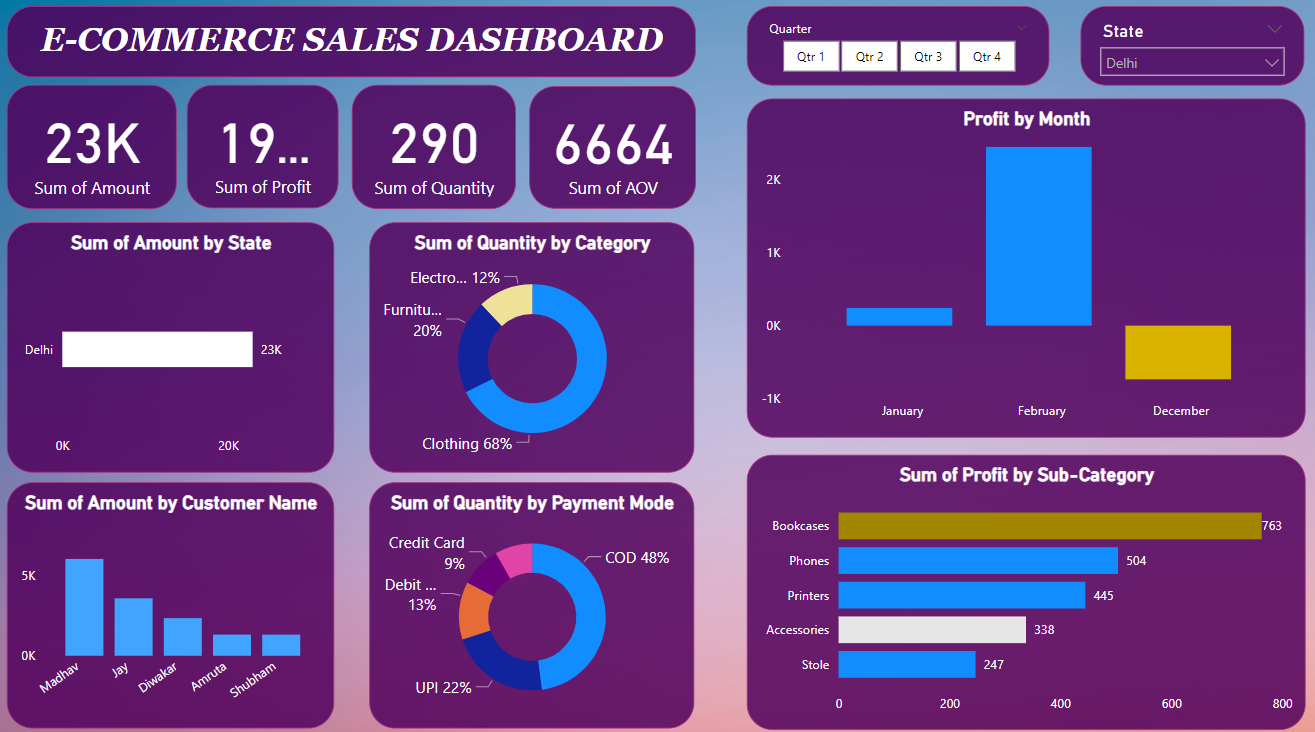

The dashboard page shown, as its layout file describes it:
{"tool":"powerbi","page":{"name":"Page 1","canvas":[1280,720],"ordinal":0},"visuals":[{"type":"textbox","box":[13.3,14.5,664.5,68.7],"z":0},{"type":"columnChart","title":"Profit by Month","fields":{"Category":["Orders.Order Date.Variation.Date Hierarchy.Month"],"Y":["Sum(Details.Profit)"]},"box":[727.2,103.7,539.1,326.8],"z":1000},{"type":"barChart","fields":{"Category":["Details.Sub-Category"],"Y":["Sum(Details.Profit)"]},"box":[726,445,539.1,266.5],"z":2000},{"type":"donutChart","fields":{"Category":["Details.Category"],"Y":["Sum(Details.Quantity)"]},"box":[363,223.1,313.6,241.2],"z":3000},{"type":"donutChart","title":"Sum of Quantity by Payment Mode","fields":{"Y":["Sum(Details.Quantity)"],"Category":["Details.PaymentMode"]},"box":[362.5,473.9,313.6,238.6],"z":4000},{"type":"card","fields":{"Values":["Sum(Details.Amount)"]},"box":[13,91,164,120],"z":5000},{"type":"card","fields":{"Values":["Sum(Details.Quantity)"]},"box":[346,90,158,120],"z":6000},{"type":"card","fields":{"Values":["Sum(Details.Profit)"]},"box":[187,91,146,119],"z":7000},{"type":"card","fields":{"Values":["Sum(Details.AOV)"]},"box":[517,92,161,118],"z":8000},{"type":"barChart","fields":{"Category":["Orders.State"],"Y":["Sum(Details.Amount)"]},"box":[13.3,223.1,316,241.2],"z":9000},{"type":"columnChart","title":"Sum of Amount by Customer Name","fields":{"Category":["Orders.CustomerName"],"Y":["Sum(Details.Amount)"]},"box":[13.6,473.9,315.9,238.6],"z":10000},{"type":"slicer","fields":{"Values":["Orders.Order Date.Variation.Date Hierarchy.Quarter"]},"box":[727.2,14.5,291.9,77.2],"z":11000},{"type":"slicer","fields":{"Values":["Orders.State"]},"box":[1049.2,14.5,215.9,77.2],"z":12000}]}

Visuals, with their boxes in screenshot pixels (x1, y1, x2, y2), scaled from the page's 1280x720 canvas onto the 1315x732 screenshot:
textbox: [left=14, top=15, right=696, bottom=85]
"Profit by Month" columnChart: [left=747, top=105, right=1301, bottom=438]
barChart - Details.Sub-Category x Sum(Details.Profit): [left=746, top=452, right=1300, bottom=723]
donutChart - Details.Category x Sum(Details.Quantity): [left=373, top=227, right=695, bottom=472]
"Sum of Quantity by Payment Mode" donutChart: [left=372, top=482, right=695, bottom=724]
card - Sum(Details.Amount): [left=13, top=93, right=182, bottom=215]
card - Sum(Details.Quantity): [left=355, top=92, right=518, bottom=214]
card - Sum(Details.Profit): [left=192, top=93, right=342, bottom=214]
card - Sum(Details.AOV): [left=531, top=94, right=697, bottom=214]
barChart - Orders.State x Sum(Details.Amount): [left=14, top=227, right=338, bottom=472]
"Sum of Amount by Customer Name" columnChart: [left=14, top=482, right=339, bottom=724]
slicer - Orders.Order Date.Variation.Date Hierarchy.Quarter: [left=747, top=15, right=1047, bottom=93]
slicer - Orders.State: [left=1078, top=15, right=1300, bottom=93]
